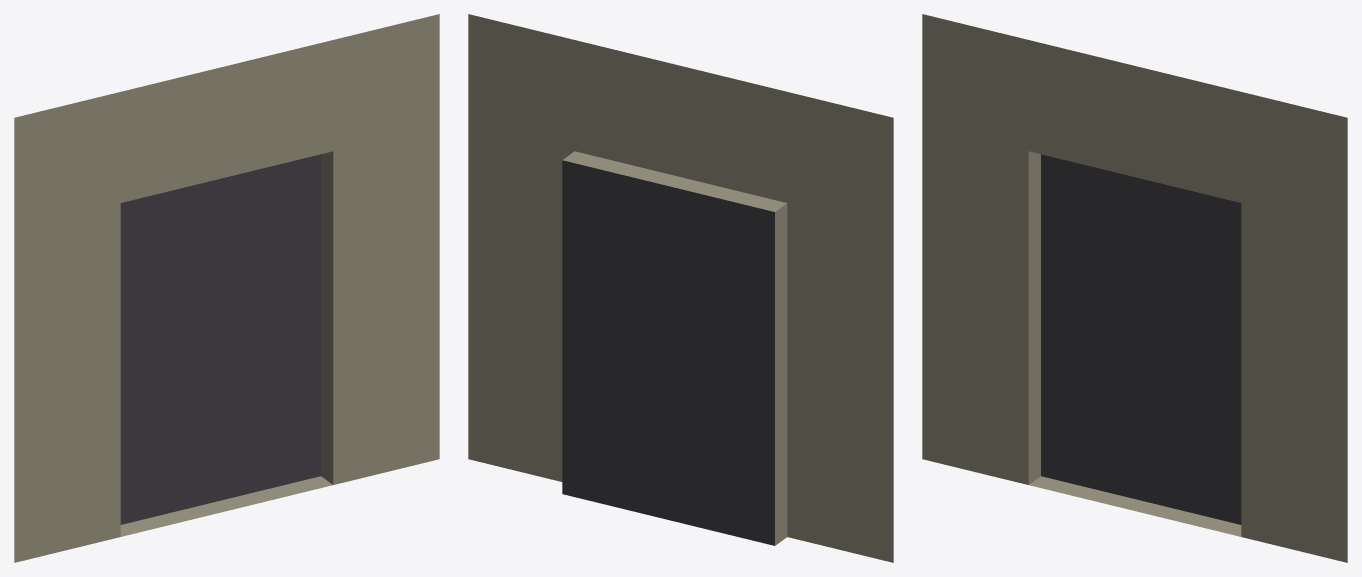
Rendered from S_b_door_01.fbx.
3 renders of one model, left to right at view 1: azimuth 30°, elevation 25°; view 2: azimuth 150°, elevation 25°; view 3: azimuth 330°, elevation 25°, orthographic.
Visible parts, largest first — view 1: b_door; view 2: b_door; view 3: b_door.
Part boxes in pixels (box(x1,y1,x2,y2)): b_door: box(14, 14, 439, 562); b_door: box(468, 14, 893, 562); b_door: box(922, 14, 1347, 562).
Bounding box in the file's own units: 300 × 300 × 15.
